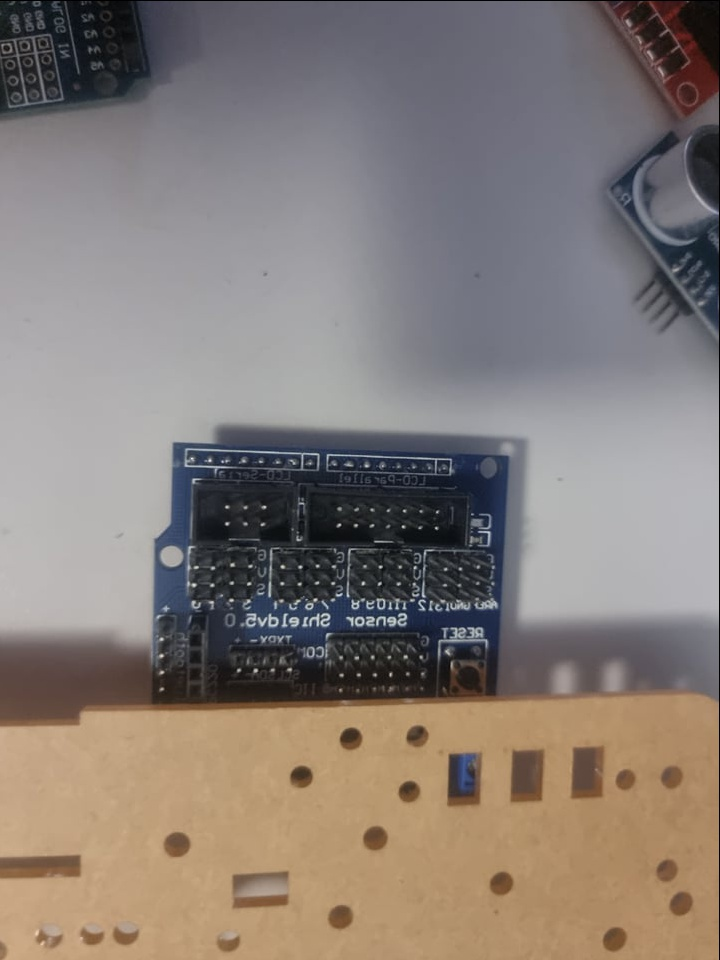5V EXPANSION: (140, 444, 517, 698)
SENSOR: (611, 122, 720, 353)
